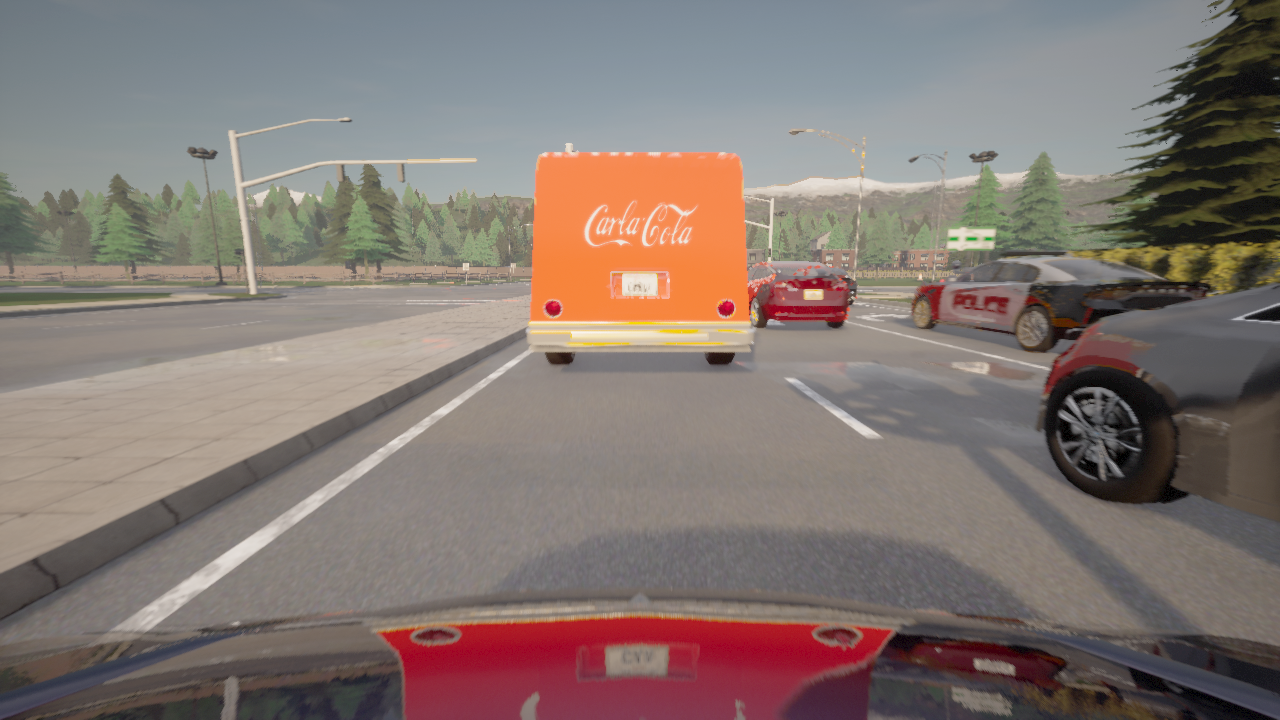cyclist: (0, 588, 1279, 719), (1035, 282, 1279, 522), (527, 153, 754, 364), (912, 249, 1209, 352), (747, 262, 848, 328), (825, 266, 857, 306)
pedestrian: (823, 261, 827, 265)
